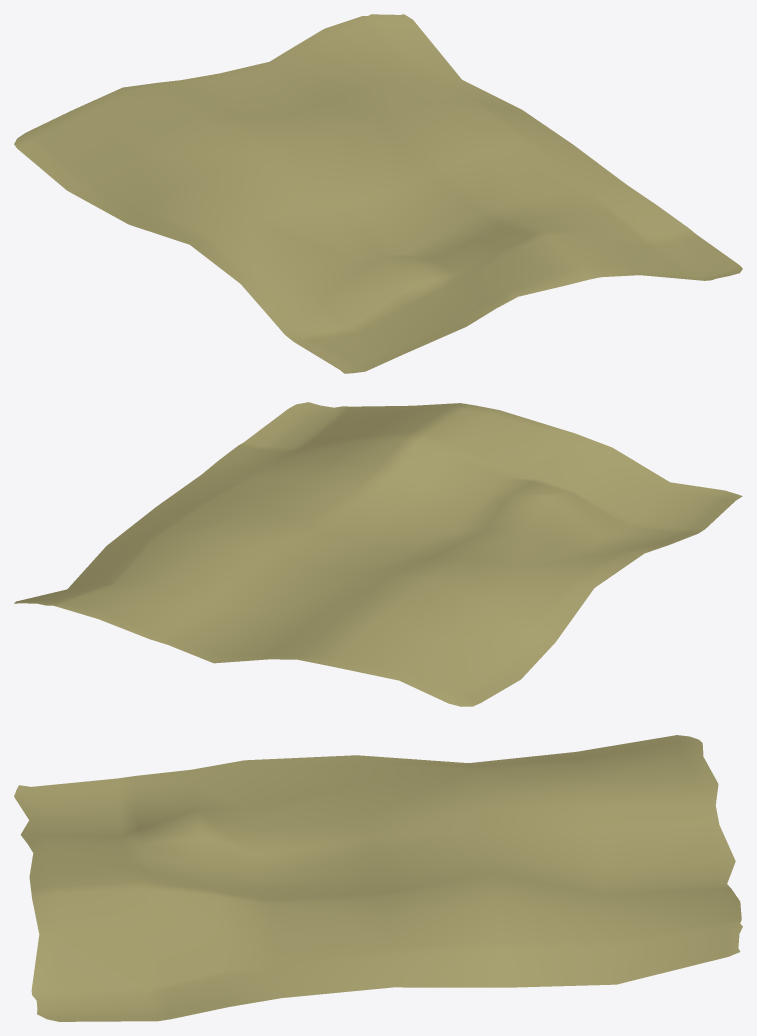
File: Worn_Paper_Figures_FBX.fbx
The picture shows the model from 3 angles, top to bottom: view 1: azimuth 30°, elevation 25°; view 2: azimuth 150°, elevation 25°; view 3: azimuth 270°, elevation 25°; orthographic projection. The views are drawn at different scales.
Parts seen in each view (by area): view 1: polySurface2; view 2: polySurface2; view 3: polySurface2.
Part boxes in pixels (x1,y1,x2,y2): polySurface2: [14, 14, 742, 373]; polySurface2: [14, 402, 742, 706]; polySurface2: [14, 735, 742, 1021].
Size of the model in its own units: 50.82 by 5.6 by 61.93.
